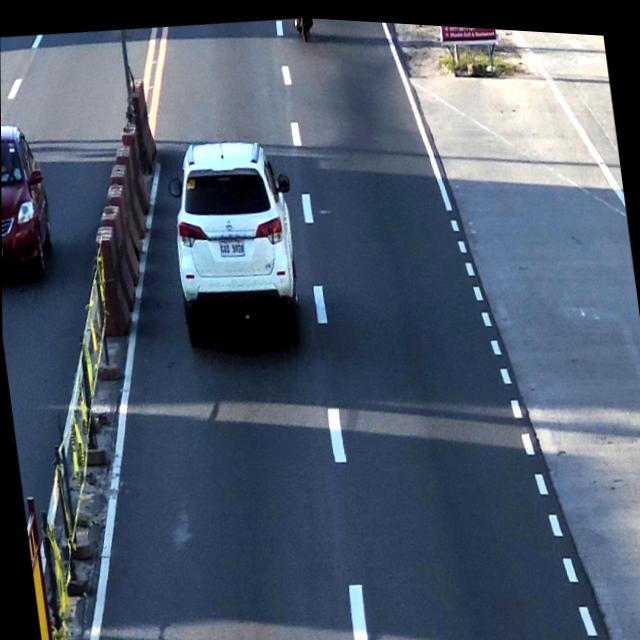Car: (159, 122, 309, 351)
License-Plate: (217, 231, 246, 261)
